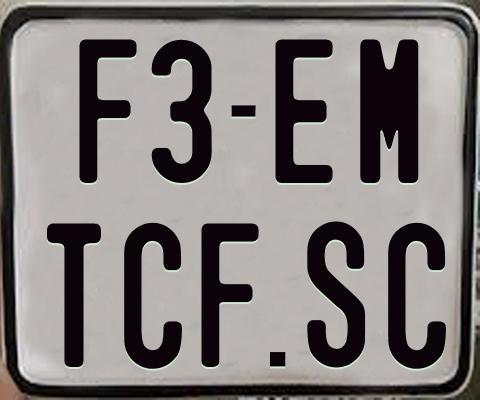3: (152, 37, 212, 182)
C: (386, 222, 448, 372), (123, 220, 185, 368)
E: (275, 37, 339, 185)
F: (79, 37, 141, 186), (198, 220, 259, 367)
M: (359, 39, 417, 187)
S: (305, 220, 366, 371)
T: (45, 222, 103, 371)
